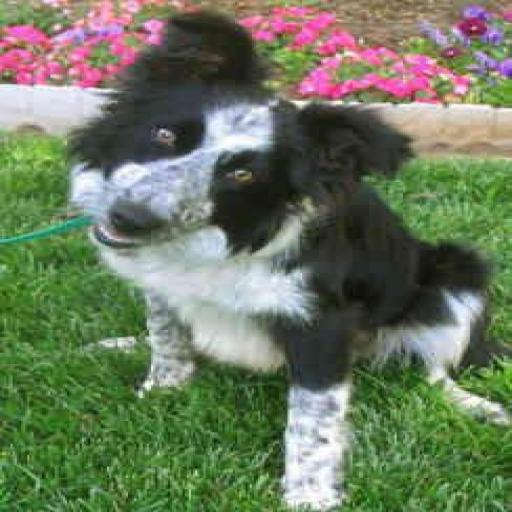dog_face: (91, 18, 404, 251)
